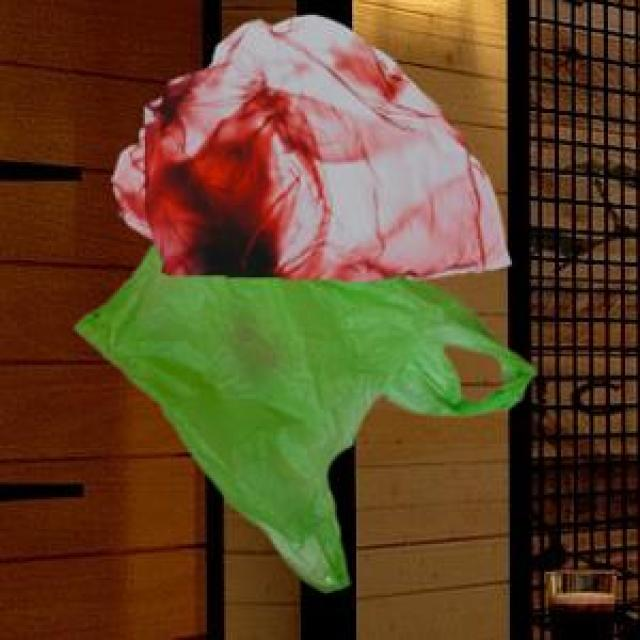plastic: (47, 14, 540, 595)
